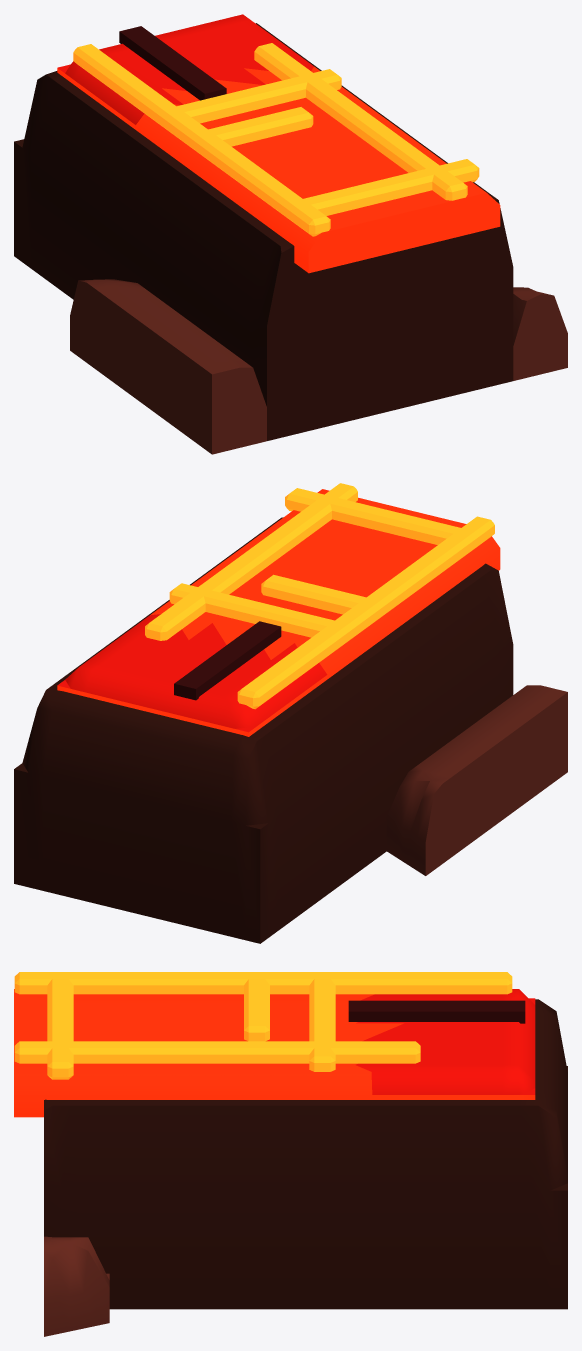
The model's file is savara_fin_right.glb.
3 renders of one model, top to bottom at view 1: azimuth 30°, elevation 25°; view 2: azimuth 150°, elevation 25°; view 3: azimuth 270°, elevation 25°, orthographic. The views are drawn at different scales.
Visible parts, largest first — view 1: fin, panel, hull0, bar0, bar1, hull1, bar4, bar2, groove, bar3; view 2: fin, panel, hull0, bar0, bar1, bar4, bar2, groove, bar3; view 3: fin, panel, bar0, bar1, hull1, groove, bar4, bar2, bar3.
Boxes of the visible parts, x1,y1,x2,y2 form: fin: (14, 23, 513, 440); panel: (57, 14, 500, 273); hull0: (70, 279, 266, 454); bar0: (73, 44, 330, 236); bar1: (254, 43, 467, 200); hull1: (513, 287, 567, 380); bar4: (288, 159, 479, 217); bar2: (161, 69, 341, 123); groove: (119, 26, 226, 100); bar3: (193, 107, 313, 146); fin: (14, 517, 513, 943); panel: (57, 489, 500, 736); hull0: (386, 685, 567, 875); bar0: (237, 516, 494, 709); bar1: (145, 483, 357, 640); bar4: (285, 488, 478, 552); bar2: (169, 583, 352, 645); groove: (174, 621, 281, 700); bar3: (261, 574, 384, 618); fin: (44, 999, 567, 1309); panel: (14, 989, 535, 1117); bar0: (14, 972, 512, 994); bar1: (14, 1041, 420, 1063); hull1: (44, 1236, 109, 1336); groove: (348, 1000, 525, 1023); bar4: (47, 972, 73, 1079); bar2: (309, 972, 335, 1071); bar3: (244, 972, 269, 1041).
Size of the model in its own units: 13 by 7.75 by 16.92.
